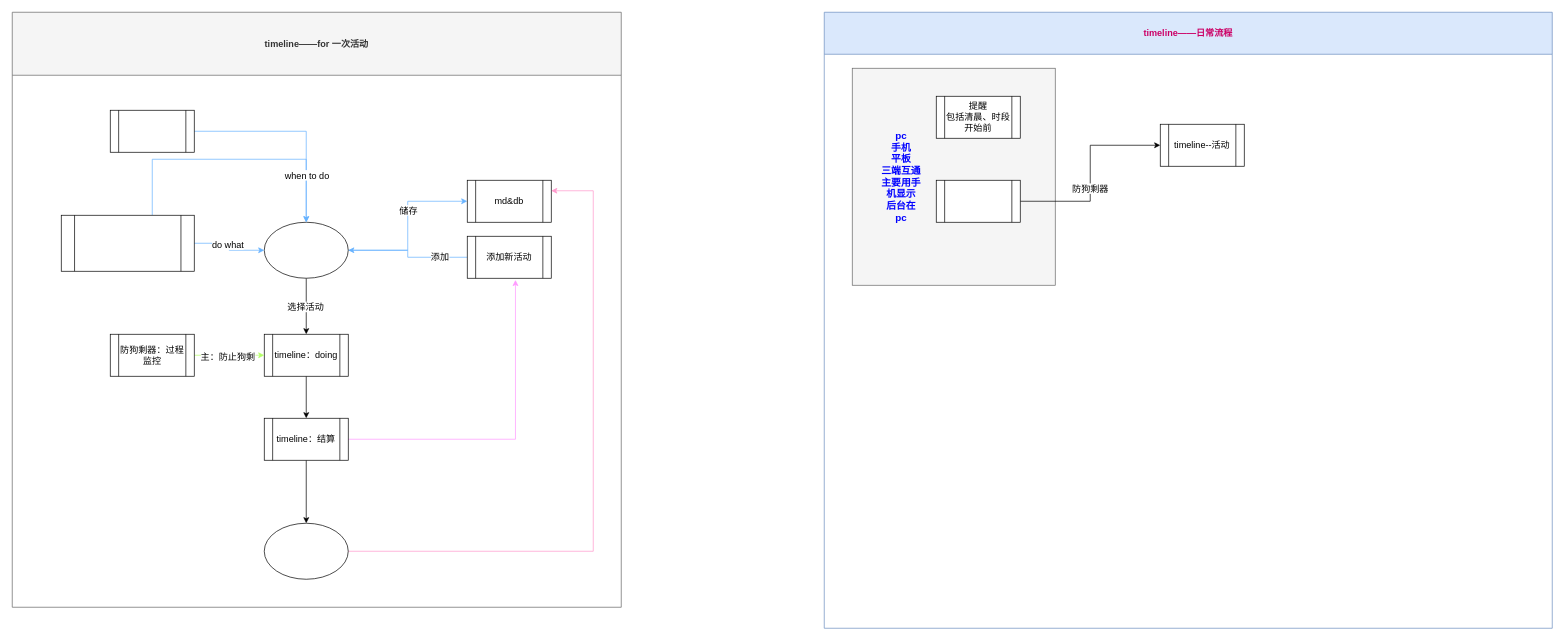
Image size: 1565x641. Some labels were removed from this diagram. Here are the shapes that lost their labels. From the top down, the centre of each, then its label:
the point at 152,131: db&md 活动性质 基于 内容 类型 和活动本身
the point at 978,201: 记录（基本状态）
the point at 127,243: 活动选择 推荐器 算法&规则（基于时间 和基本各内容、类型的规则）
the point at 306,250: 活动
the point at 306,551: 活动记录
